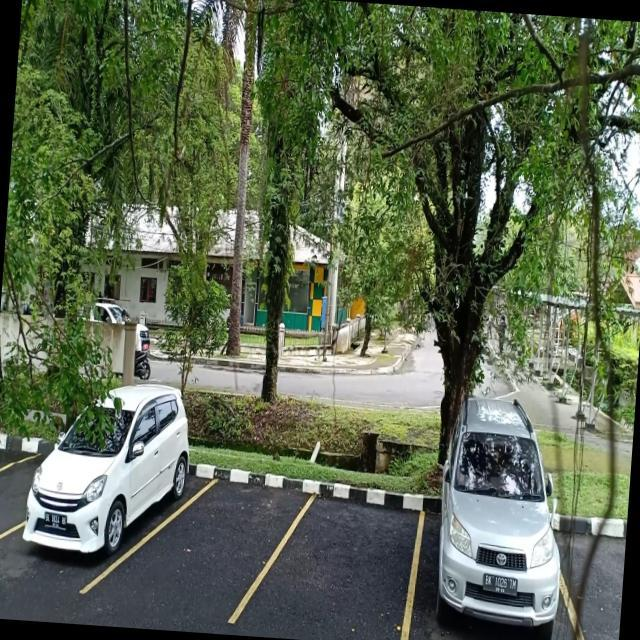empty: (254, 469, 423, 640), (143, 456, 280, 630), (0, 452, 37, 546)
occupied: (404, 476, 575, 640), (15, 434, 184, 589)
